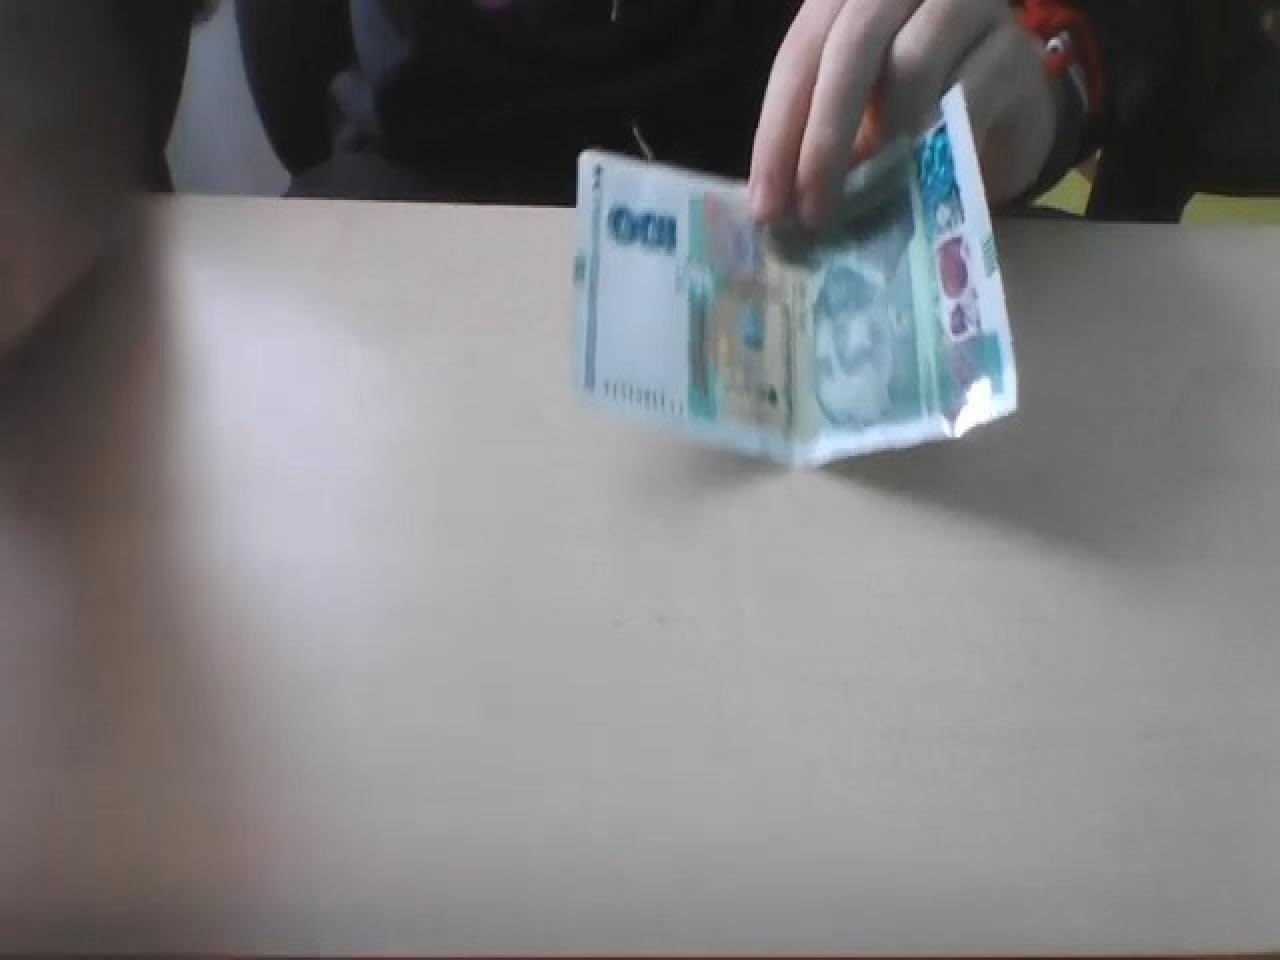100leva: (570, 109, 1022, 472)
